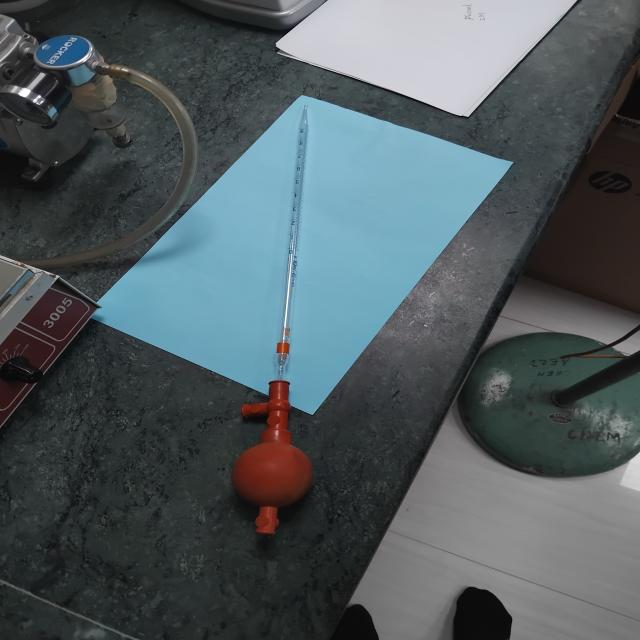Volumetric_Pipet: (205, 59, 360, 574)
